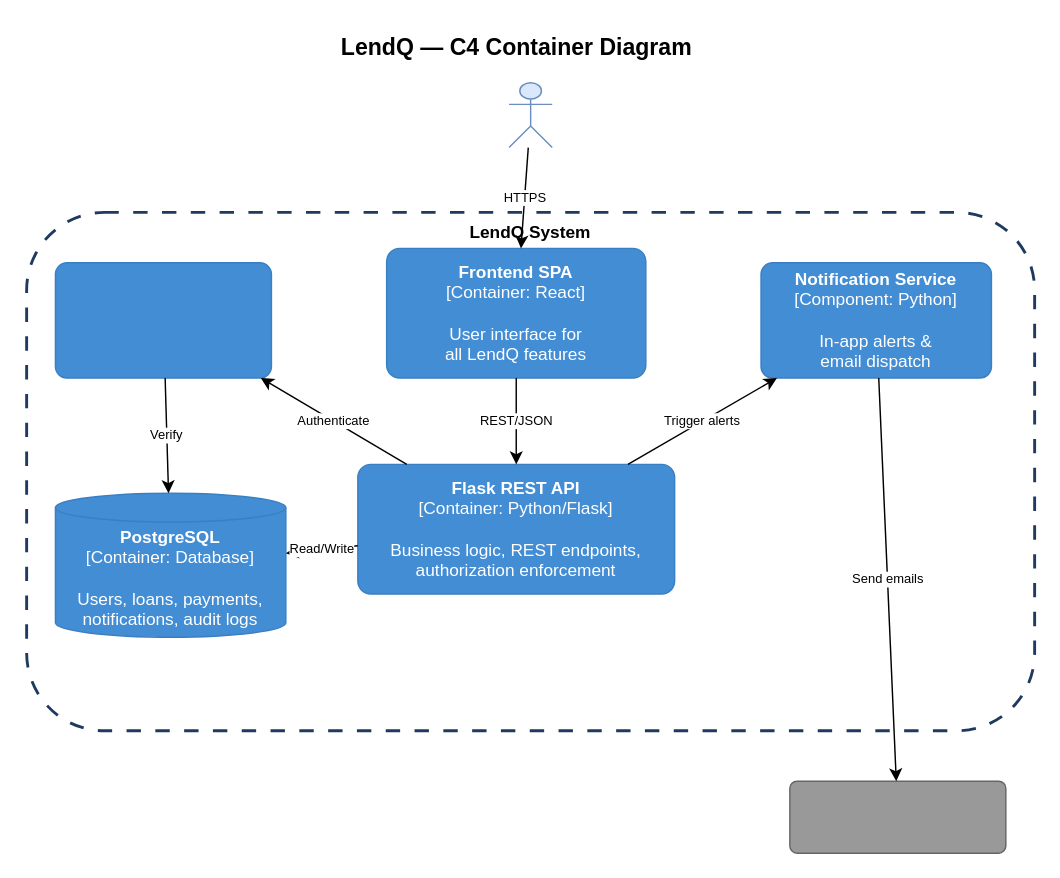
Some shapes in this 1060 by 878 pixel diagram are drawn without their labels. The shapes that lost their labels are listed below. From the top down, each one's box as (x1, y1, x2, y2) in pixels, then its label:
(508, 81, 552, 148): User
(54, 261, 271, 378): Auth Service [Component: JWT] Token issuance, verification
(788, 780, 1006, 853): SMTP Server [External System]
